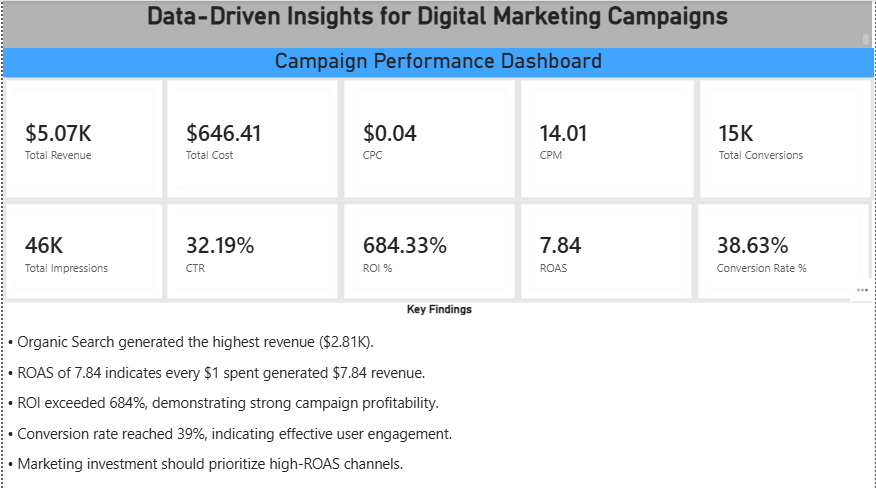

The page's visual inventory and layout, read from the dashboard file:
{"tool":"powerbi","page":{"name":"Campaign Performance","canvas":[1280,720],"ordinal":0},"visuals":[{"type":"textbox","title":"Data-Driven Insights for Digital Marketing Campaigns","box":[0,1.5,1276.9,69.1],"z":0},{"type":"cardVisual","fields":{"Data":["Measures (2).Total Cost"]},"box":[236.6,113.1,260.1,182.2],"z":1000},{"type":"cardVisual","fields":{"Data":["Measures (2).Total Revenue"]},"box":[0,113.1,239.5,182.2],"z":2000},{"type":"cardVisual","fields":{"Data":["Measures (2).Total Impressions"]},"box":[0,295.3,239.5,148.4],"z":3000},{"type":"cardVisual","fields":{"Data":["Measures (2).Total Conversions"]},"box":[1019.8,113.1,260.1,182.2],"z":4000},{"type":"cardVisual","fields":{"Data":["Measures (2).CTR"]},"box":[236.6,295.3,260.1,148.4],"z":5000},{"type":"cardVisual","fields":{"Data":["Measures (2).CPC"]},"box":[496.7,113.1,260.1,182.2],"z":6000},{"type":"cardVisual","fields":{"Data":["Measures (2).CPM"]},"box":[756.7,113.1,263,182.2],"z":7000},{"type":"cardVisual","fields":{"Data":["Measures (2).Conversion Rate %"]},"box":[1016.8,295.3,260.1,148.4],"z":8000},{"type":"cardVisual","fields":{"Data":["Measures (2).ROI %"]},"box":[496.7,295.3,260.1,148.4],"z":9000},{"type":"cardVisual","fields":{"Data":["Measures (2).ROAS"]},"box":[756.7,295.3,260.1,148.4],"z":10000},{"type":"textbox","title":"Campaign Performance Dashboard","box":[0,70.5,1279.8,42.6],"z":11000},{"type":"textbox","title":"Key Findings","box":[1,443.8,1279.8,276.2],"z":12000}]}

Visuals, with their boxes in screenshot pixels (x1, y1, x2, y2), scaled from the page's 1280x720 canvas onto the 876x488 screenshot:
"Data-Driven Insights for Digital Marketing Campaigns" textbox: (0, 1, 874, 48)
cardVisual - Measures (2).Total Cost: (162, 77, 340, 200)
cardVisual - Measures (2).Total Revenue: (0, 77, 164, 200)
cardVisual - Measures (2).Total Impressions: (0, 200, 164, 301)
cardVisual - Measures (2).Total Conversions: (698, 77, 875, 200)
cardVisual - Measures (2).CTR: (162, 200, 340, 301)
cardVisual - Measures (2).CPC: (340, 77, 518, 200)
cardVisual - Measures (2).CPM: (518, 77, 698, 200)
cardVisual - Measures (2).Conversion Rate %: (696, 200, 874, 301)
cardVisual - Measures (2).ROI %: (340, 200, 518, 301)
cardVisual - Measures (2).ROAS: (518, 200, 696, 301)
"Campaign Performance Dashboard" textbox: (0, 48, 875, 77)
"Key Findings" textbox: (1, 301, 875, 487)
